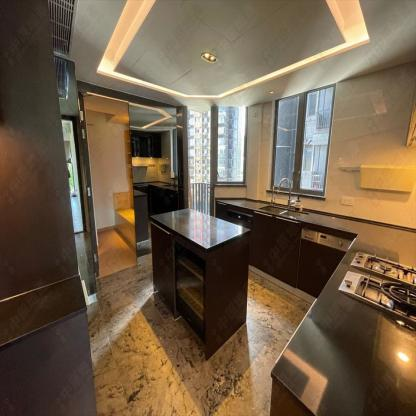Cupboard: (150, 207, 249, 359)
Faucet: (276, 177, 291, 207)
Oven: (298, 226, 356, 296)
Sink: (257, 205, 308, 218)
Stove: (337, 251, 416, 327)
